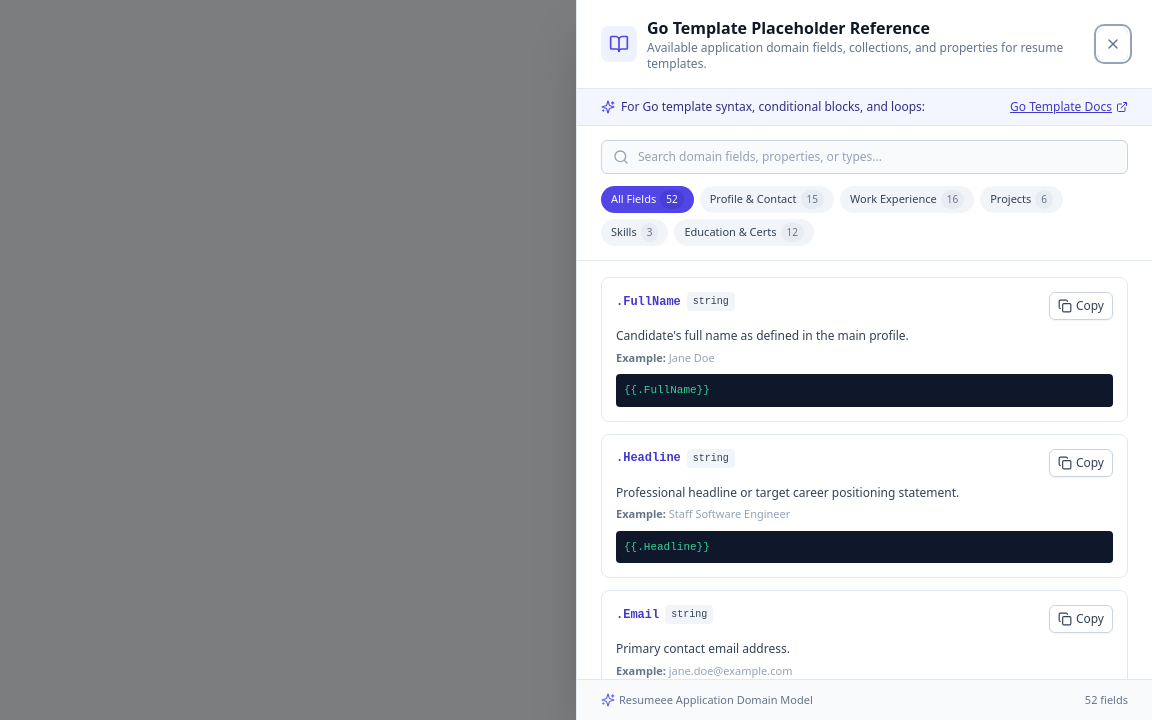
Test: TemplateReferenceDrawer Component › filters items by category filter button
What coordinates should you click on to do the following:
click the button "Skills 3"
I would click on:
 (635, 232)
Its box is [601,219,668,246].
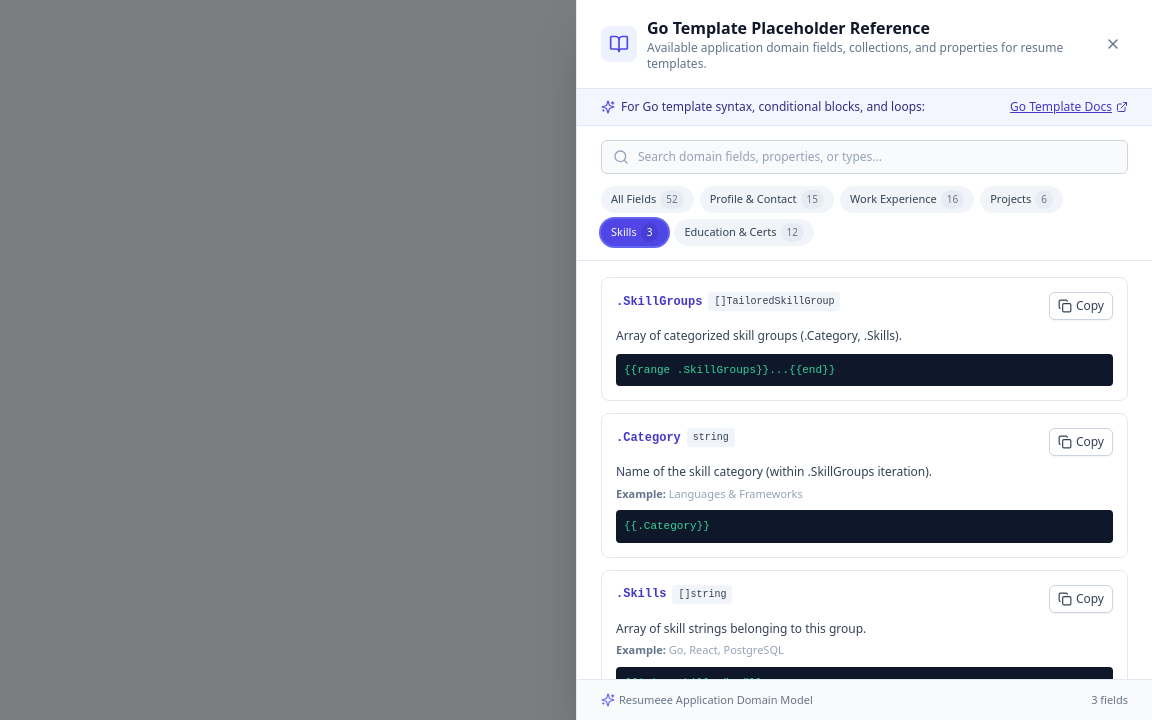
Expected: the text ".SkillGroups" is shown, [616,294,702,310]
Expected: the text "{{.FullName}}" is gone
